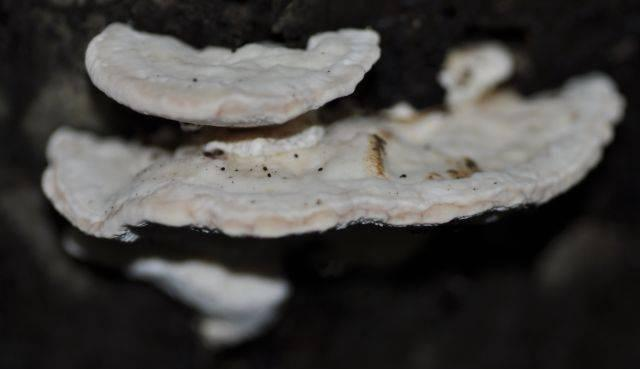poisonous_mushroom: (43, 50, 602, 369), (83, 20, 382, 130)
